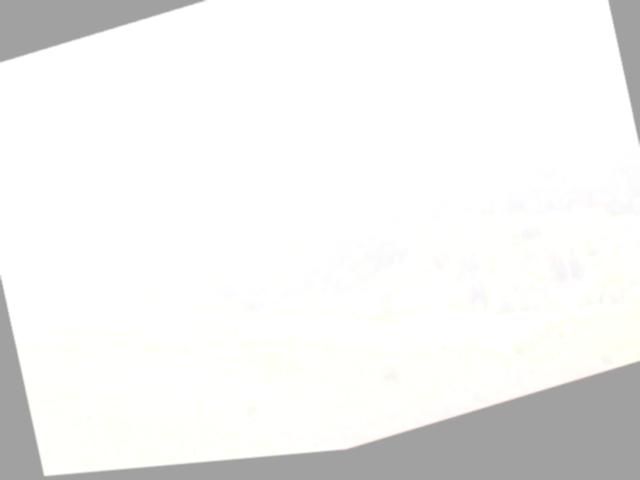iha: (310, 117, 390, 200)
